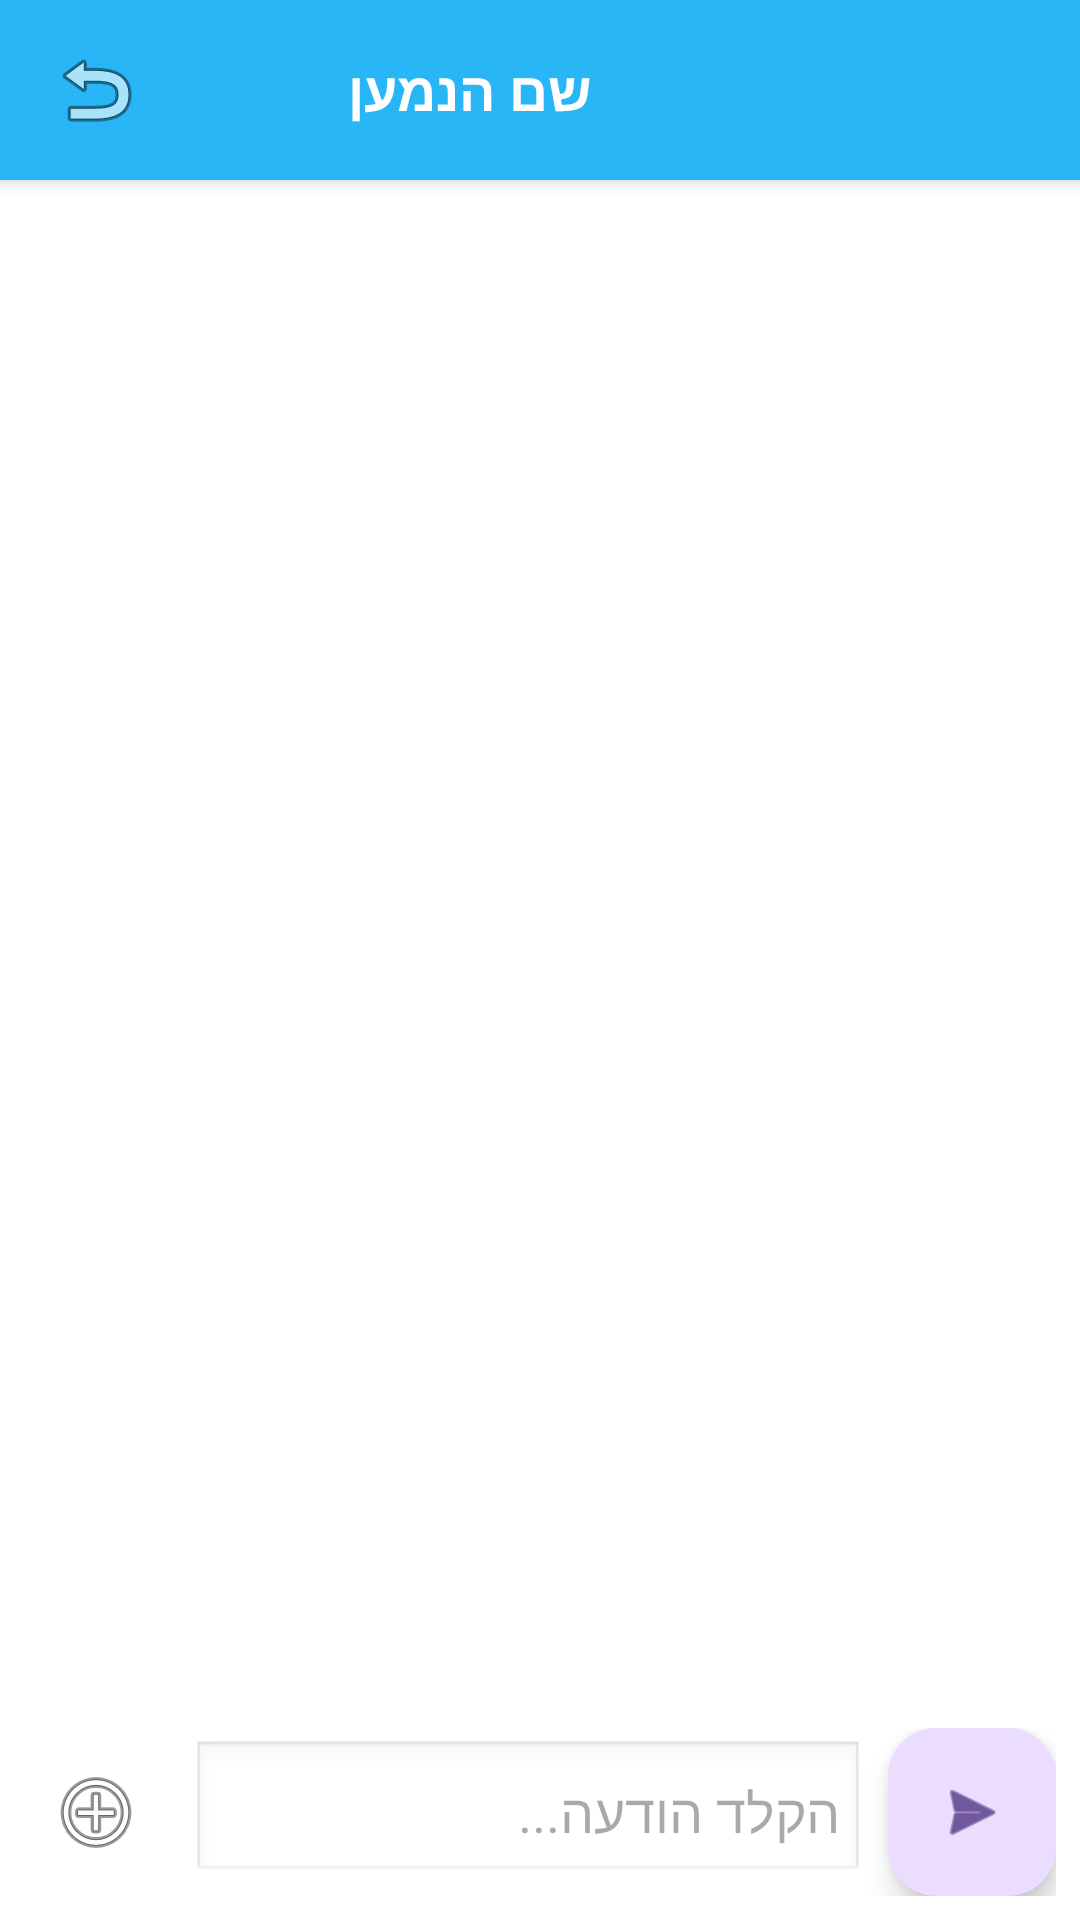

Screen size 1080 × 1920. Icon name, then its center in pixels as (x=x, y=y):
חזרה: (x=97, y=90)
צרף: (x=96, y=1812)
שלח: (x=972, y=1812)
